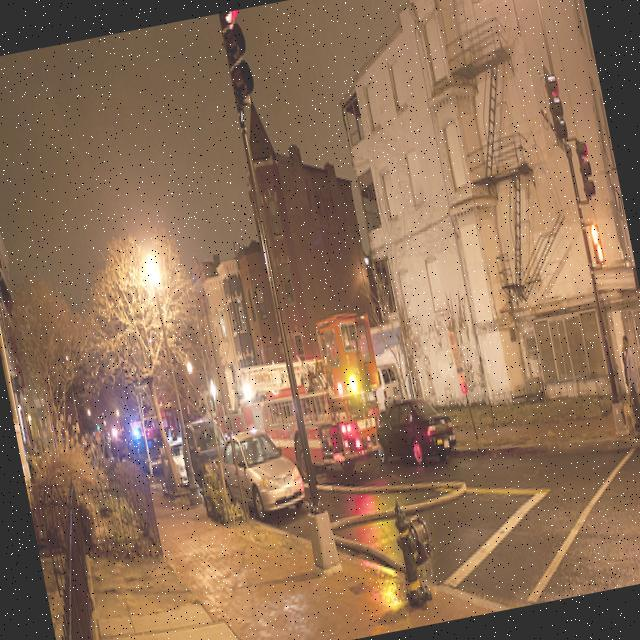fire_hydrant: (388, 496, 443, 607)
